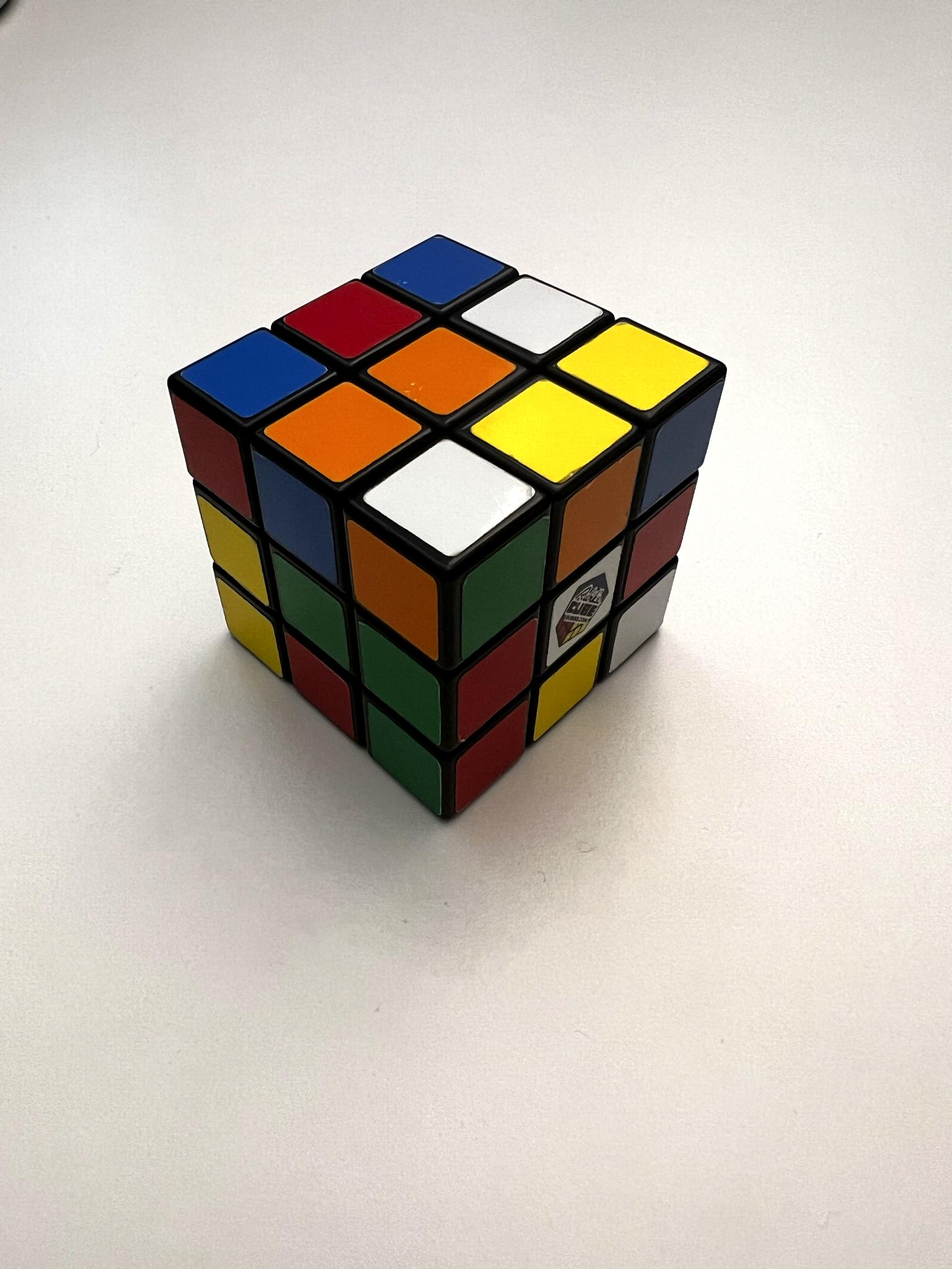rubiks_cube: (171, 235, 724, 815)
